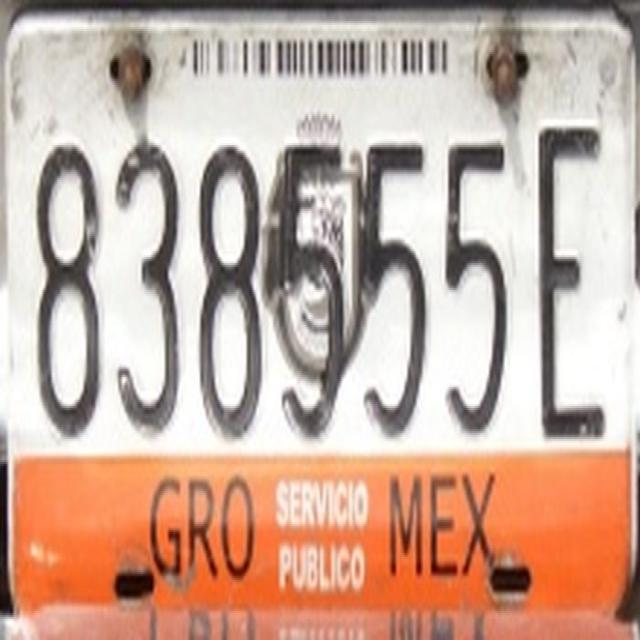placa: (3, 120, 628, 448)
